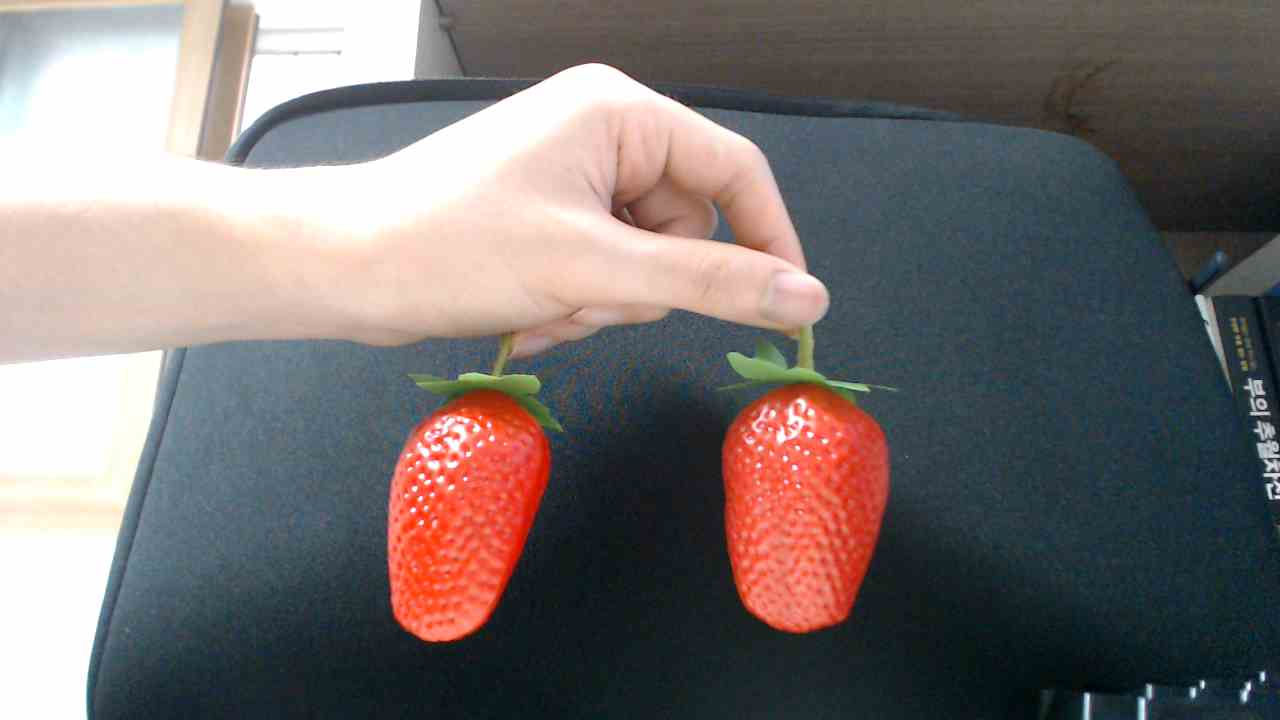strawberry: (707, 367, 896, 642), (379, 387, 565, 641)
